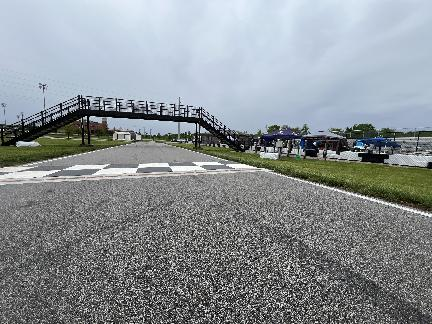Grass: (200, 147, 431, 209), (0, 138, 132, 167)
Lane: (0, 143, 431, 323)
